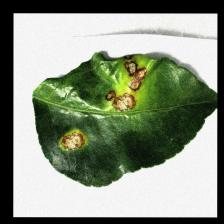canker: (53, 53, 153, 155)
